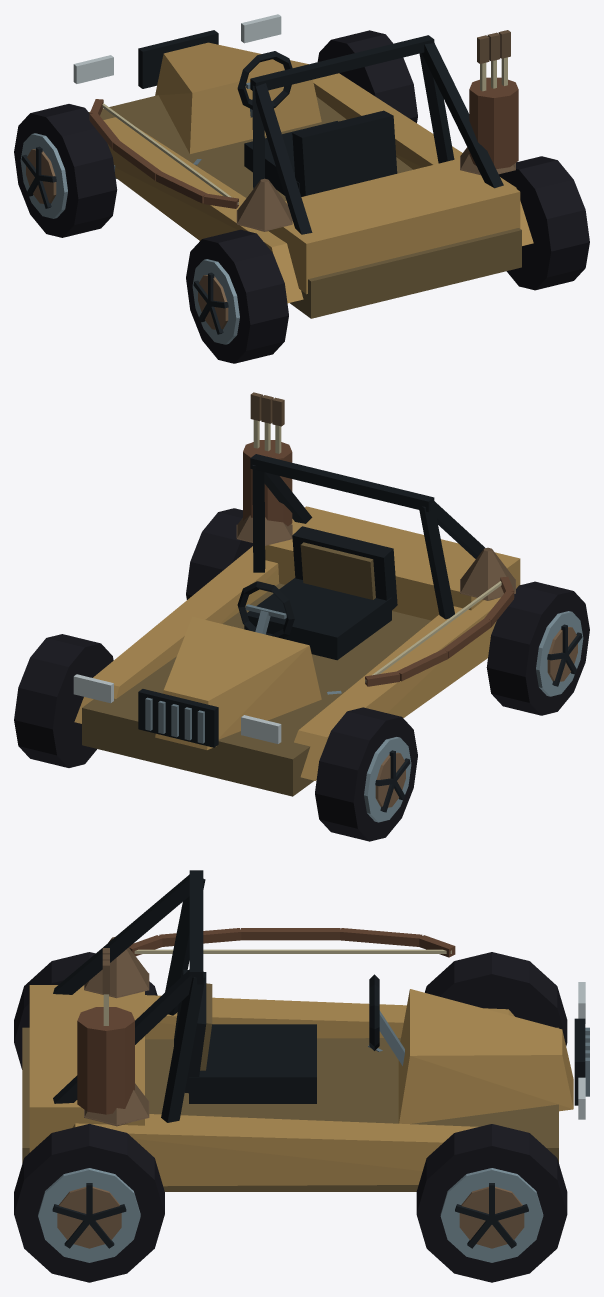
File: kart.glb
3 views of the same model, one above another, from view 1: azimuth 30°, elevation 25°; view 2: azimuth 150°, elevation 25°; view 3: azimuth 270°, elevation 25° (orthographic). The views are drawn at different scales.
Parts seen in each view (by area): view 1: identity-buggy-buggy-offroad-frame, wheel-rear-left, wheel-front-left, identity-buggy-driver-cockpit, wheel-rear-right, identity-buggy-motif-quiver, wheel-front-right, identity-buggy-motif-bow, identity-buggy-motif-gems; view 2: identity-buggy-buggy-offroad-frame, identity-buggy-driver-cockpit, wheel-front-left, wheel-rear-left, wheel-front-right, identity-buggy-motif-quiver, wheel-rear-right, identity-buggy-motif-bow, identity-buggy-motif-gems; view 3: identity-buggy-buggy-offroad-frame, wheel-front-right, wheel-rear-right, identity-buggy-driver-cockpit, wheel-front-left, identity-buggy-motif-quiver, identity-buggy-motif-bow, identity-buggy-motif-gems, wheel-rear-left.
Part boxes in pixels (x1,y1,x2,y2): identity-buggy-buggy-offroad-frame: (73,14,533,318); wheel-rear-left: (186,229,288,363); wheel-front-left: (14,104,117,237); identity-buggy-driver-cockpit: (237,51,397,196); wheel-rear-right: (499,156,589,290); identity-buggy-motif-quiver: (469,30,518,169); wheel-front-right: (317,30,417,122); identity-buggy-motif-bow: (89,99,238,208); identity-buggy-motif-gems: (236,147,515,231); identity-buggy-buggy-offroad-frame: (73,454,520,796); identity-buggy-driver-cockpit: (237,526,397,660); wheel-front-left: (315,707,417,841); wheel-rear-left: (486,581,589,715); wheel-front-right: (14,634,113,767); identity-buggy-motif-quiver: (243,392,292,526); wheel-rear-right: (186,508,252,599); identity-buggy-motif-bow: (365,576,514,686); identity-buggy-motif-gems: (236,515,515,600); identity-buggy-buggy-offroad-frame: (22,870,589,1191); wheel-front-right: (416,1124,567,1282); wheel-rear-right: (14,1124,164,1282); identity-buggy-driver-cockpit: (174,969,404,1103); wheel-front-left: (425,952,567,1045); identity-buggy-motif-quiver: (77,948,134,1114); identity-buggy-motif-bow: (129,928,455,957); identity-buggy-motif-gems: (84,936,149,1126); wheel-rear-left: (14,952,157,1069).
Size of the model in its own units: 2.31 by 1.54 by 2.75.
